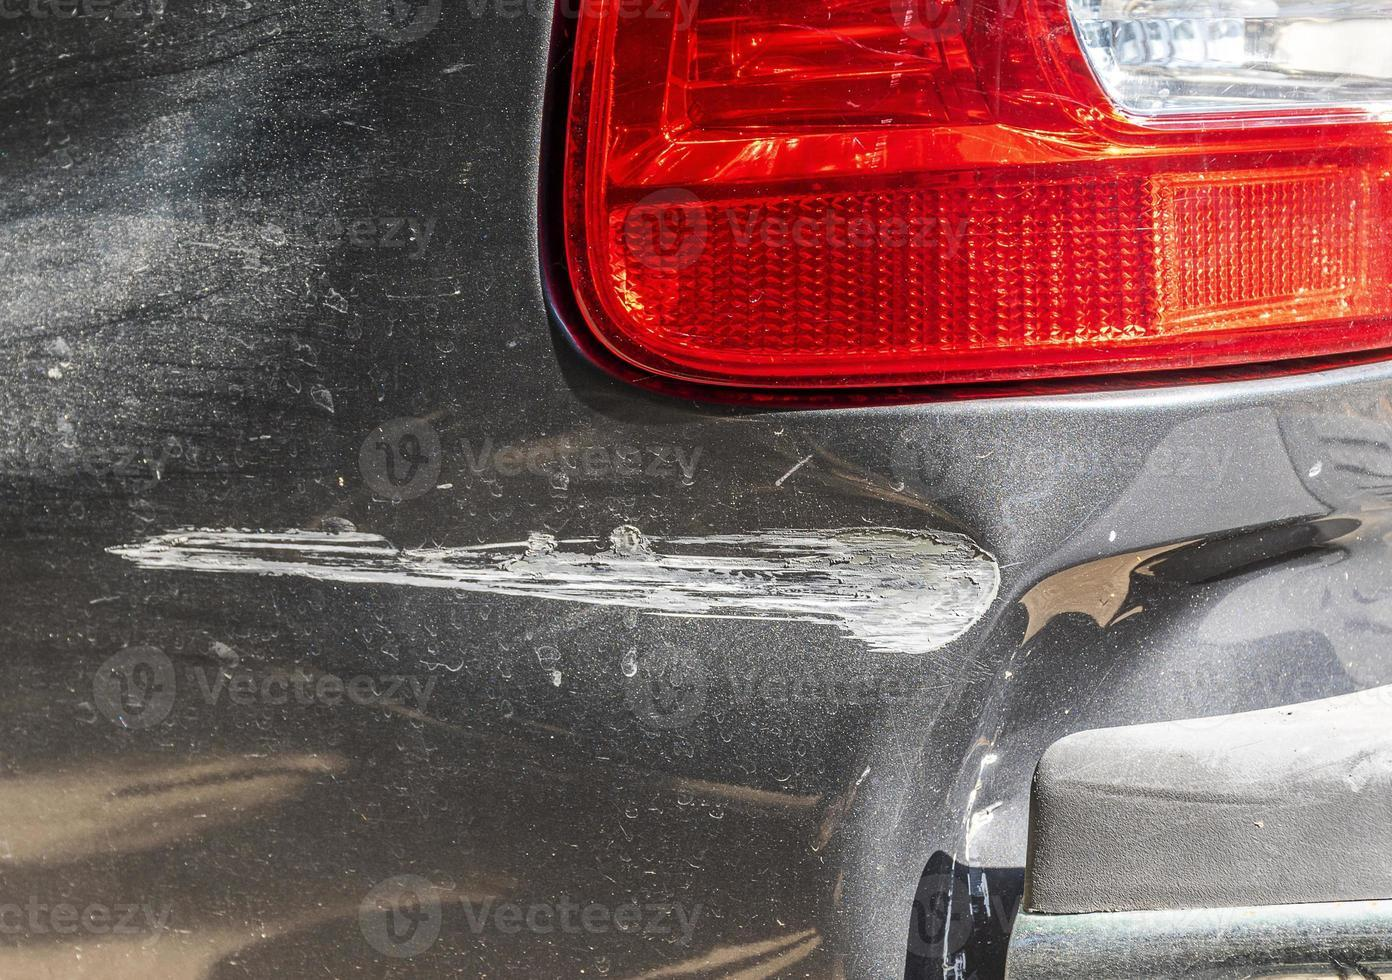scratch: (80, 497, 1020, 675)
